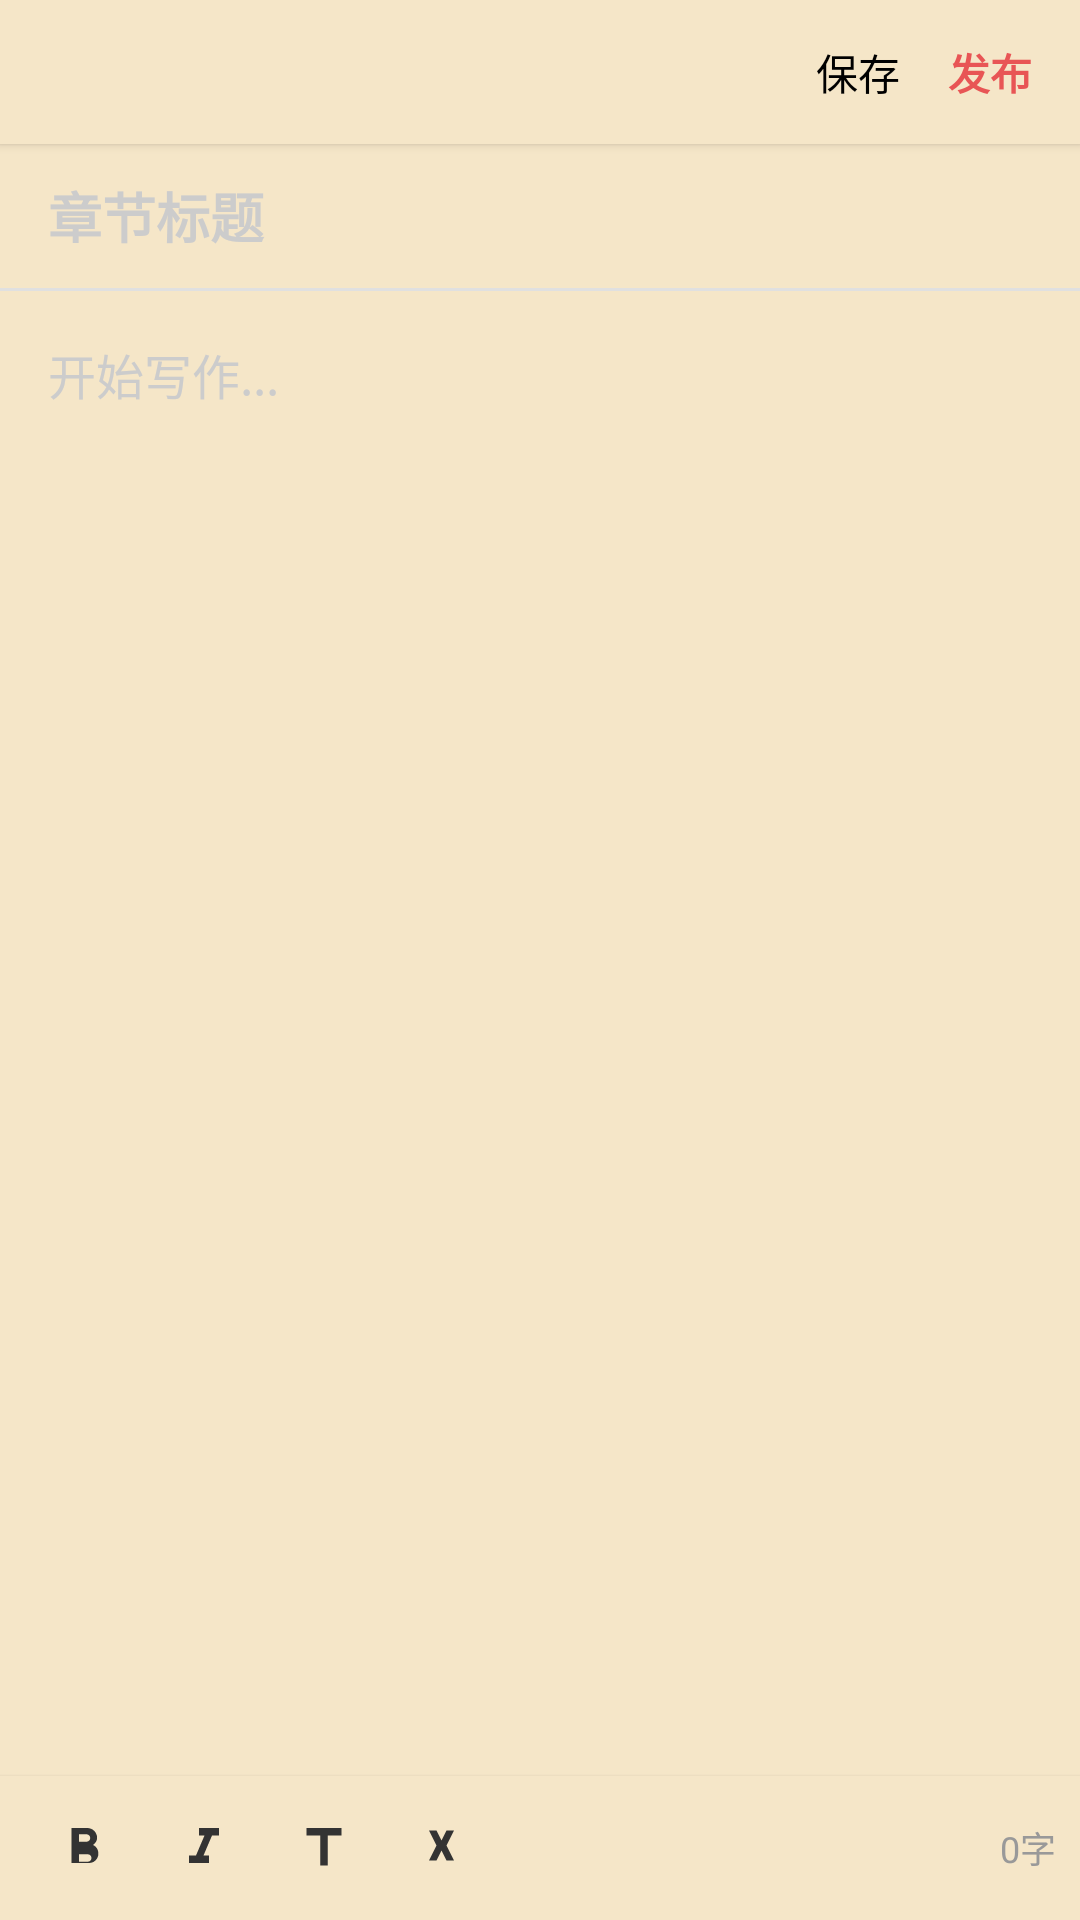

Point at icon controls on the screen. Image size 1080px x 1920px, points as point (x, y).
加粗: point (85, 1845)
斜体: point (204, 1845)
标题: point (324, 1847)
